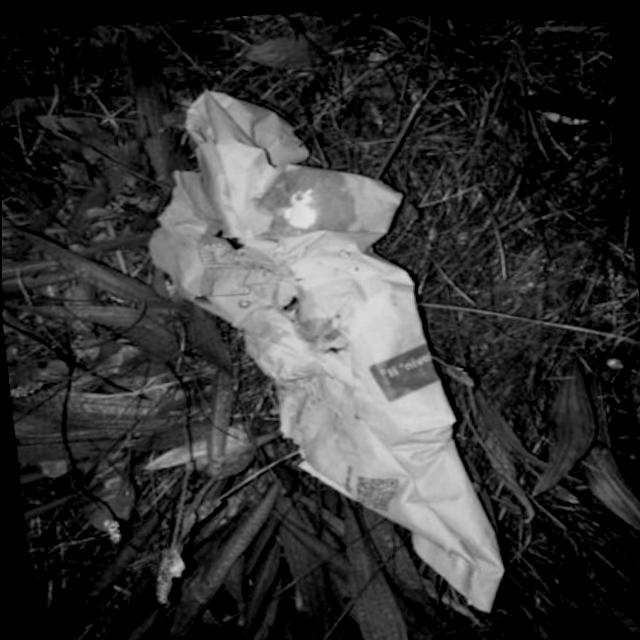Paper: (126, 58, 511, 640)
